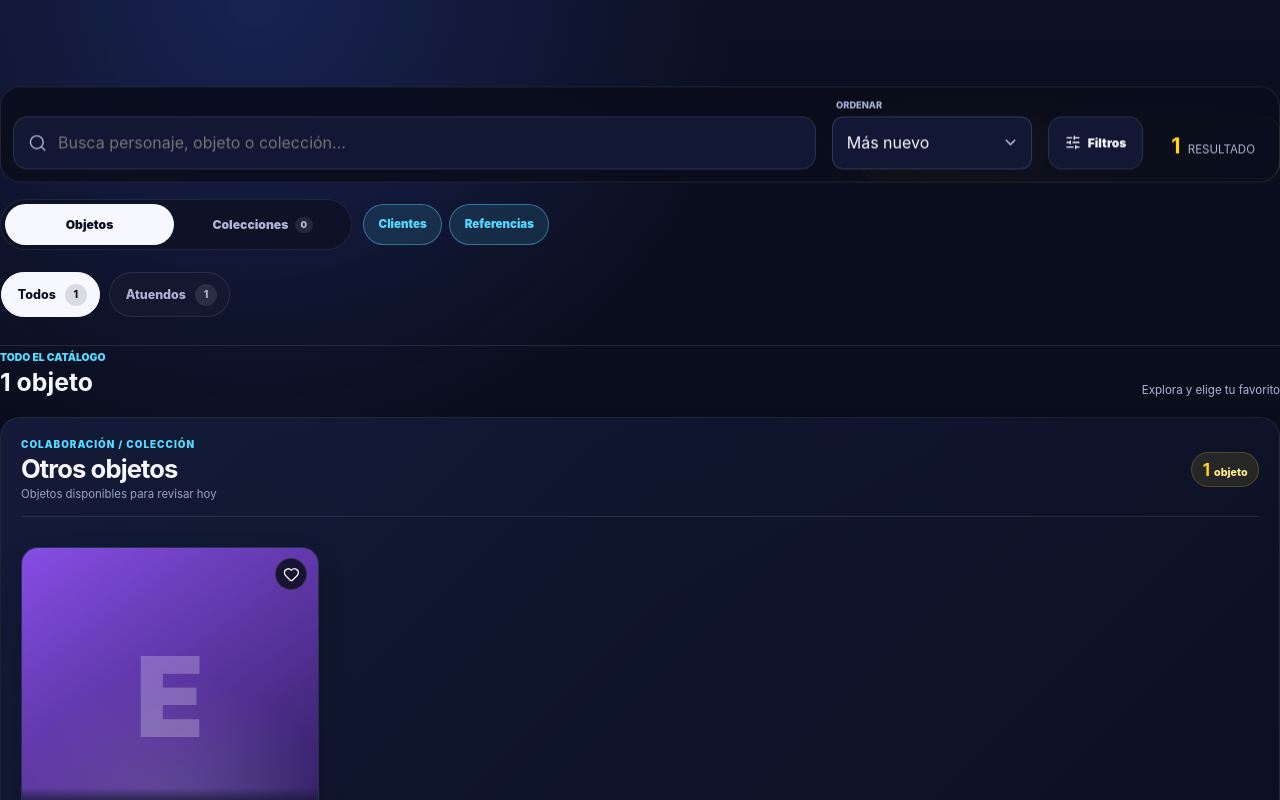
Test: CatalogGrid › mantiene los filtros secundarios ocultos hasta que el usuario los solicita
Click the button "Filtros". click: (1096, 143)
box: [1048,116,1143,170]
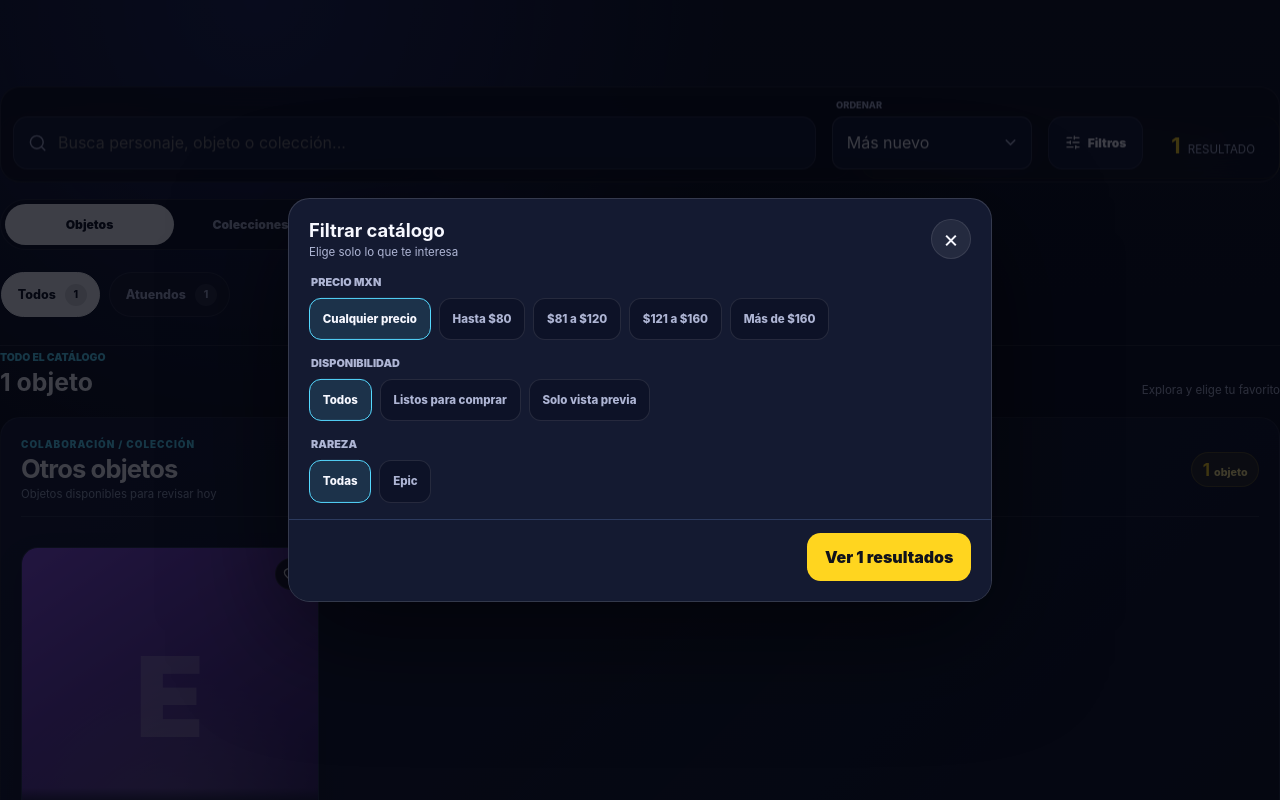
Result: the dialog "Filtrar catálogo" is shown at [288,198,992,602]
Click the button named "Cerrar filtros". click: (951, 239)
box: [931,219,971,259]
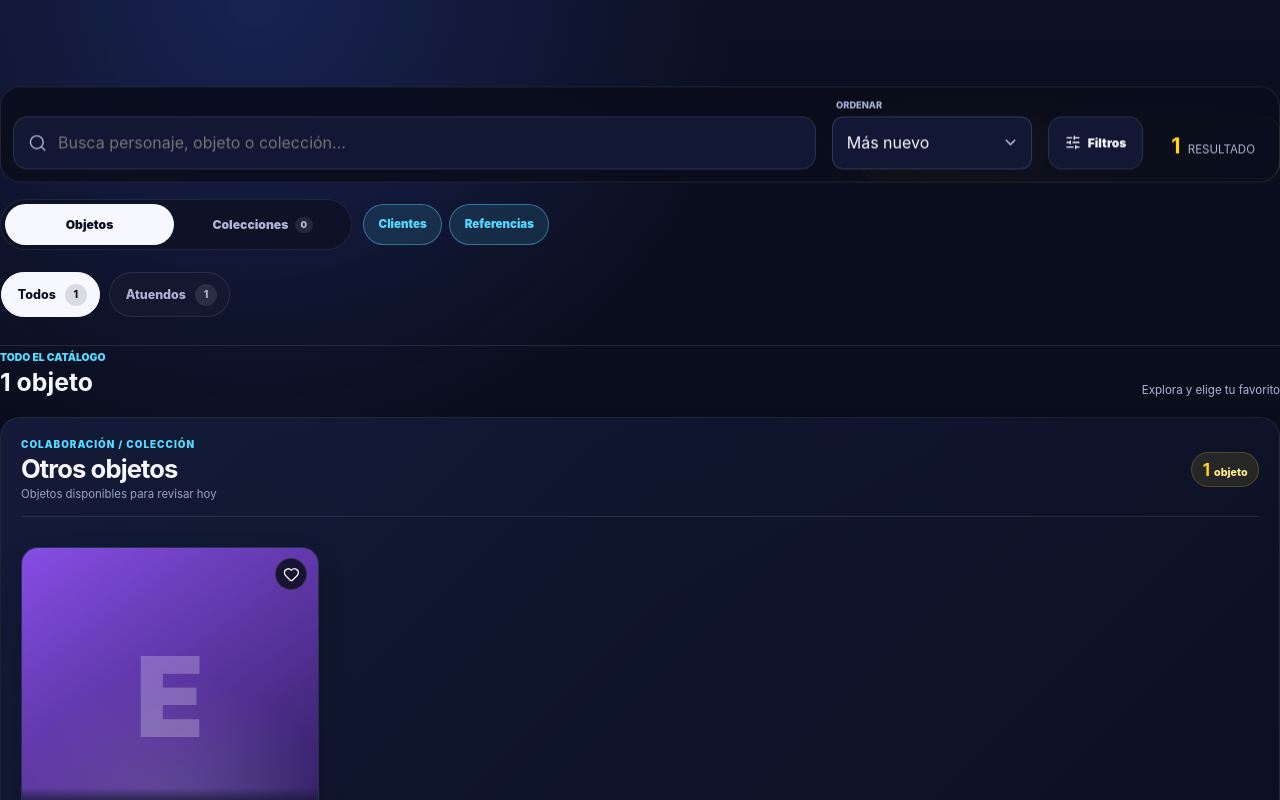
Result: the dialog is gone
